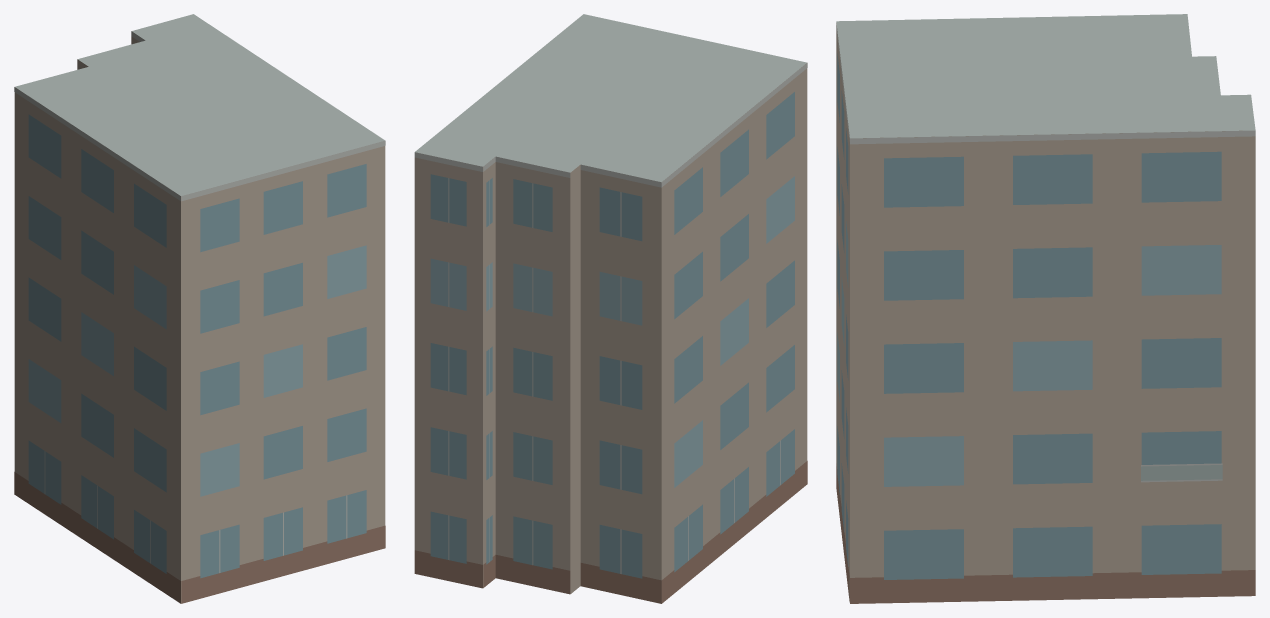
Rendered from survey-upis-33003560.glb.
3 renders of one model, left to right at view 1: azimuth 30°, elevation 25°; view 2: azimuth 150°, elevation 25°; view 3: azimuth 270°, elevation 25°, orthographic. The views are drawn at different scales.
Parts seen in each view (by area): view 1: survey-upis-33003560.tmp; view 2: survey-upis-33003560.tmp; view 3: survey-upis-33003560.tmp.
Boxes of the visible parts, <box> form: survey-upis-33003560.tmp: <box>14,14,385,603</box>; survey-upis-33003560.tmp: <box>414,14,807,603</box>; survey-upis-33003560.tmp: <box>836,14,1255,603</box>.
Size of the model in its own units: 10.95 by 19.1 by 15.6.
